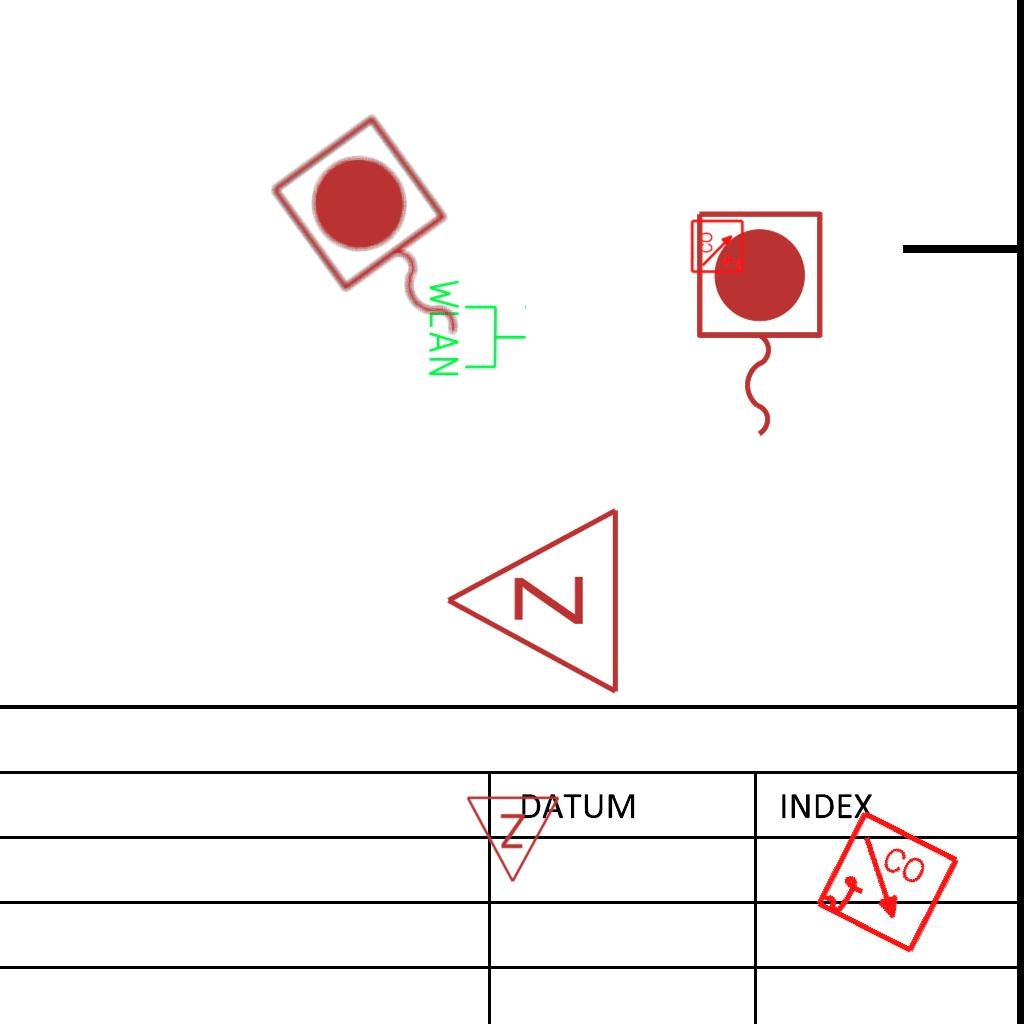ROA_Rauchmelder_optisch_mit_Signalgeber_(Sockelsirene): (811, 807, 964, 960), (690, 218, 746, 274)
WLAN: (425, 275, 529, 380)
Zimmersignalleuchte: (433, 505, 633, 701), (465, 789, 563, 889)
Zugtaster: (257, 103, 517, 387), (686, 203, 830, 447)
